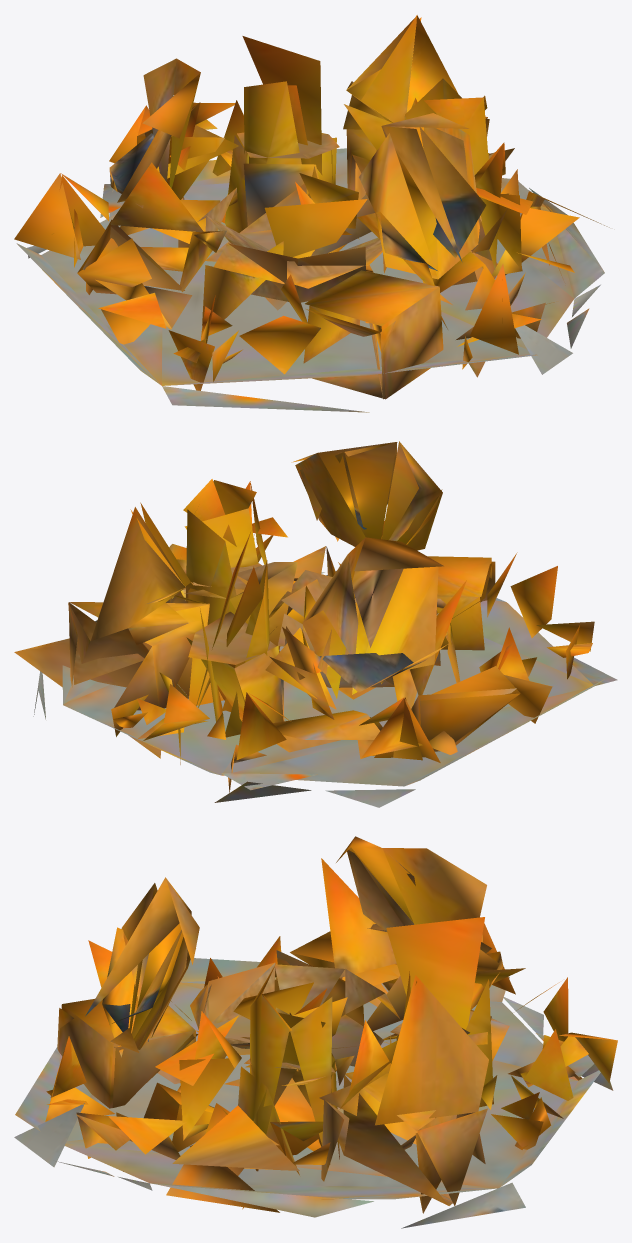
File: salvage-sunstone.lod1.glb
3 renders of one model, top to bottom at view 1: azimuth 30°, elevation 25°; view 2: azimuth 150°, elevation 25°; view 3: azimuth 270°, elevation 25°, orthographic. The views are drawn at different scales.
Visible parts, largest first — view 1: salvage-sunstone_lod1; view 2: salvage-sunstone_lod1; view 3: salvage-sunstone_lod1.
Part boxes in pixels (x1,y1,x2,y2): salvage-sunstone_lod1: (14,15,609,412); salvage-sunstone_lod1: (14,441,617,807); salvage-sunstone_lod1: (14,836,617,1228).
Bounding box in the file's own units: 0.8277 × 0.4406 × 0.8431.
1 material, 1 textured.
